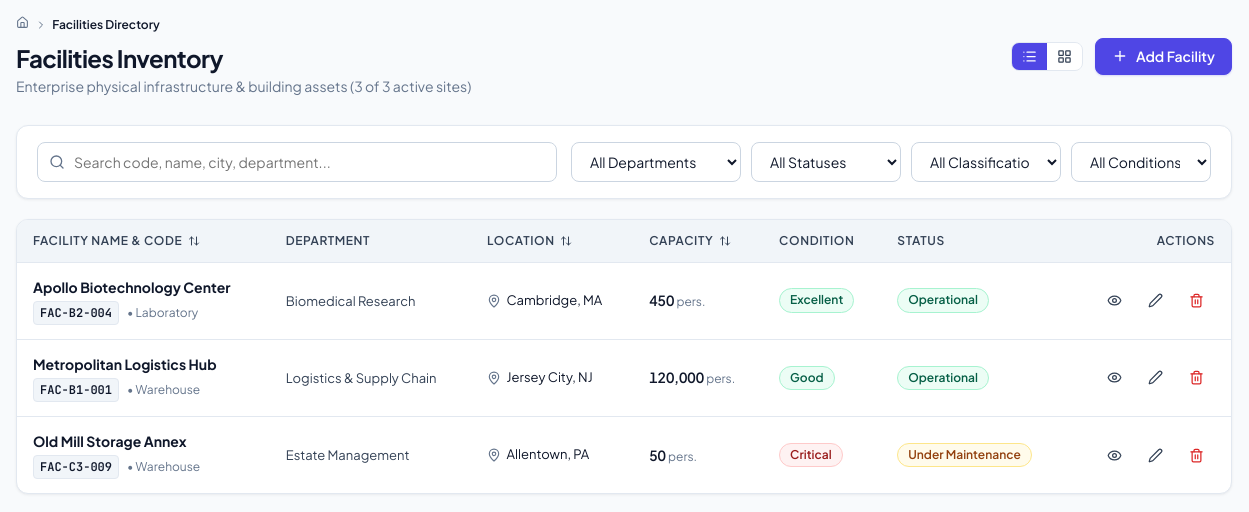
Test case: FacilitiesView Search & Filtering › filters facilities by search term
This screenshot has width=1249, height=512.
Type "Apollo" into the field named "Search facilities" at (297, 162), box [37,142,557,182]
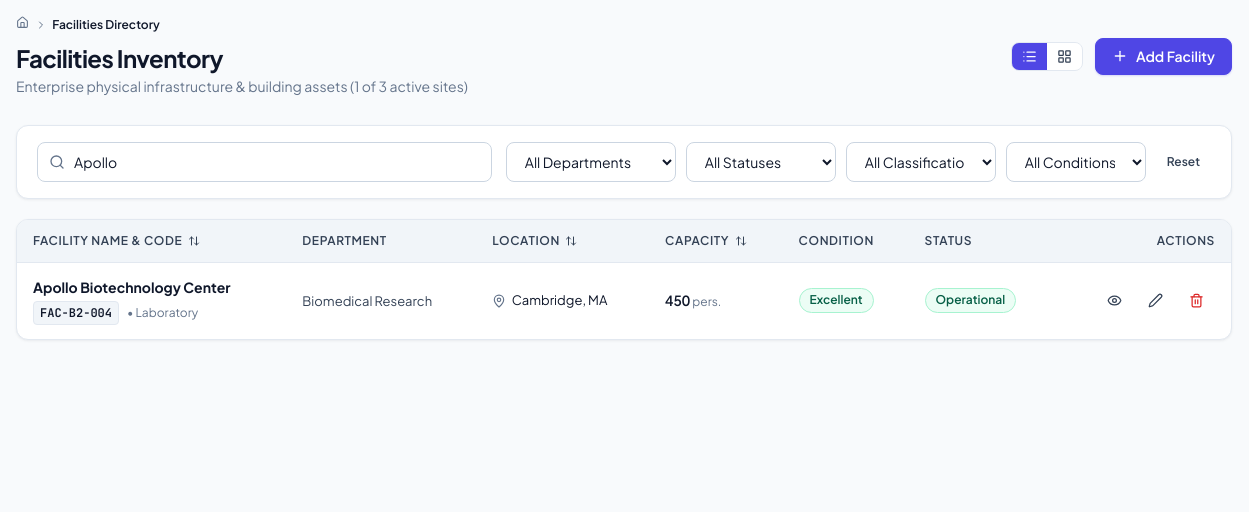
expect the text "Apollo Biotechnology Center" is shown: met, box [33,278,230,296]
expect the text "Metropolitan Logistics Hub" is gone: met
expect the text "Old Mill Storage Annex" is gone: met
